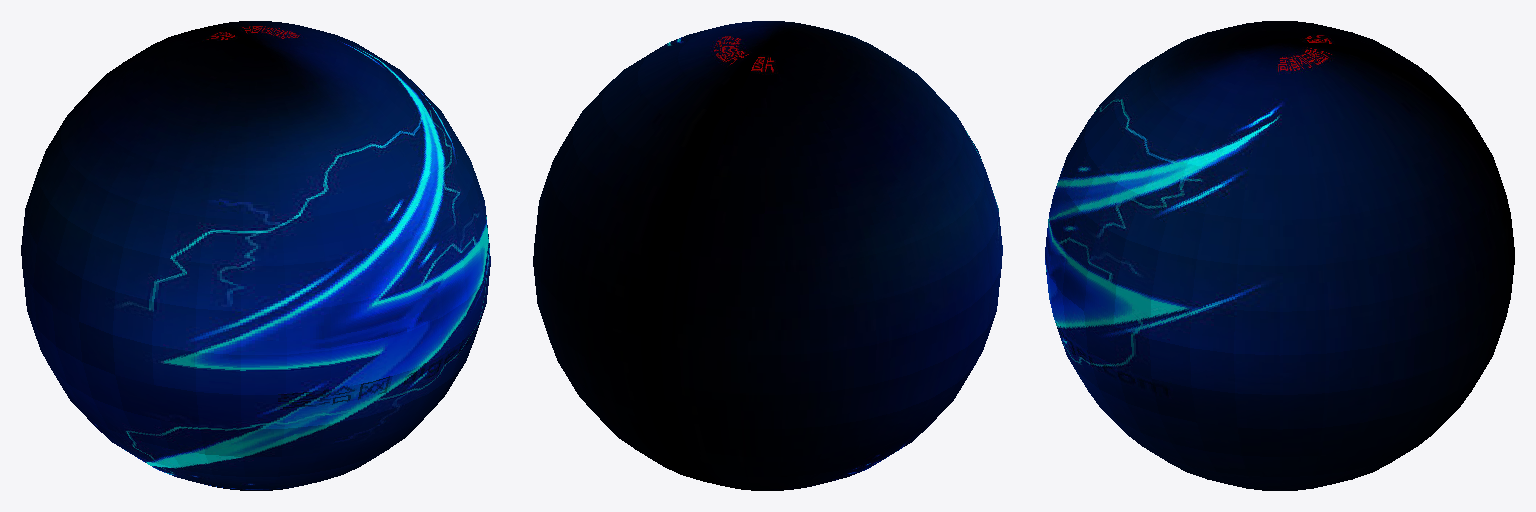
The picture shows the model from 3 angles: view 1: azimuth 30°, elevation 25°; view 2: azimuth 150°, elevation 25°; view 3: azimuth 270°, elevation 25°; orthographic projection.
Visible parts, largest first — view 1: Sphere001; view 2: Sphere001; view 3: Sphere001.
Boxes of the visible parts, box(x1,y1,x2,y2) form: Sphere001: box(21, 21, 490, 490); Sphere001: box(533, 21, 1002, 490); Sphere001: box(1045, 21, 1514, 490).
Size of the model in its own units: 1485 by 1485 by 1485.
Materials: 1 (1 with a texture image).